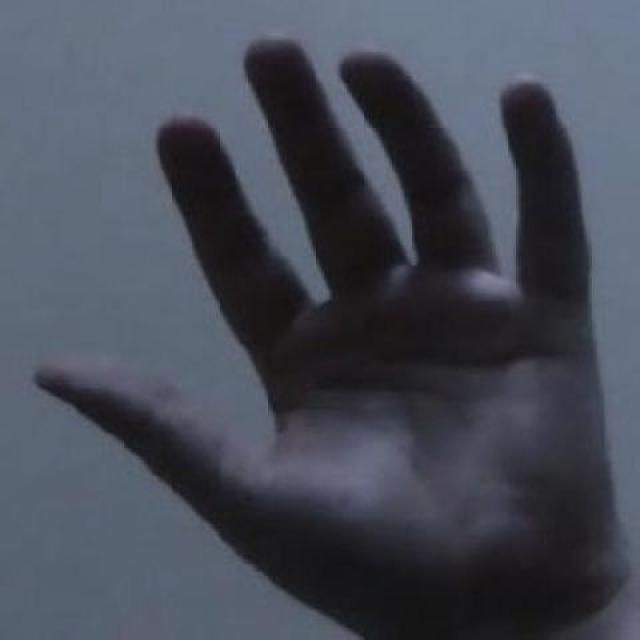Open Hand: (30, 29, 631, 640)
